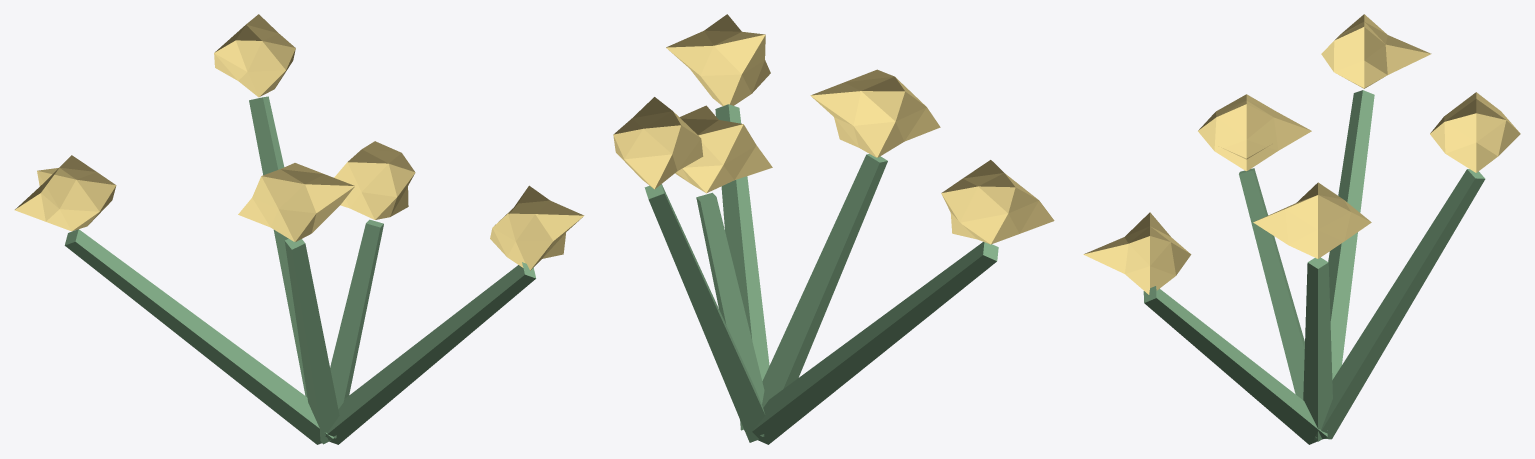
The model's file is flower_v35.glb.
The picture shows the model from 3 angles, left to right: view 1: azimuth 30°, elevation 25°; view 2: azimuth 150°, elevation 25°; view 3: azimuth 270°, elevation 25°; orthographic projection. The views are drawn at different scales.
Visible parts, largest first — view 1: lod0; view 2: lod0; view 3: lod0.
Boxes of the visible parts, x1,y1,x2,y2 form: lod0: (14, 14, 584, 444); lod0: (613, 14, 1054, 444); lod0: (1083, 14, 1520, 444).
Size of what is drawn, in the model's own units: 0.5849 by 0.4455 by 0.4963.
